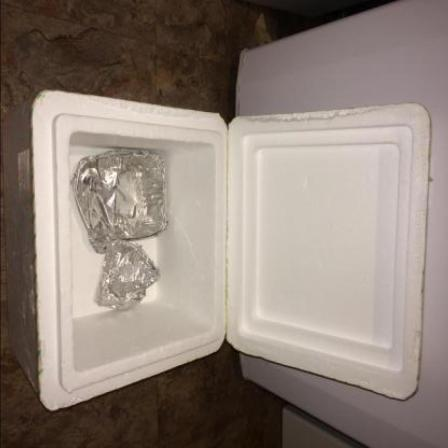Aluminium foil: (71, 149, 169, 260), (95, 243, 162, 311)
Styrofoam piece: (3, 91, 432, 413)
